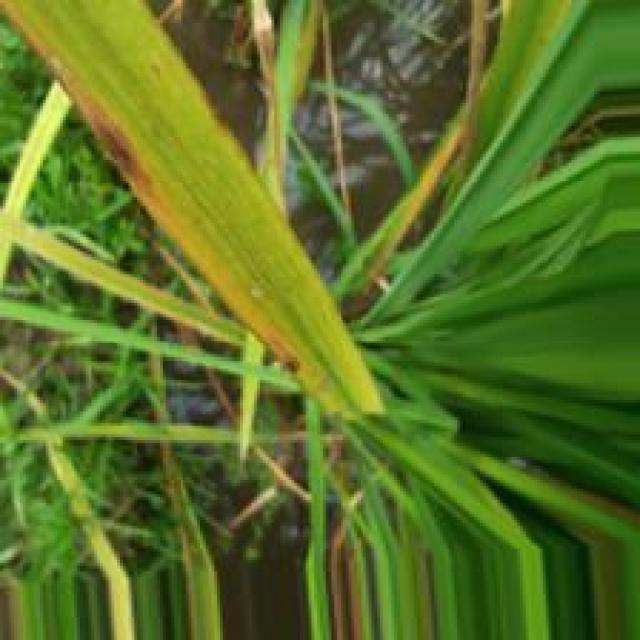Narrow_Brown_Leaf_Spot: (0, 1, 317, 392)
